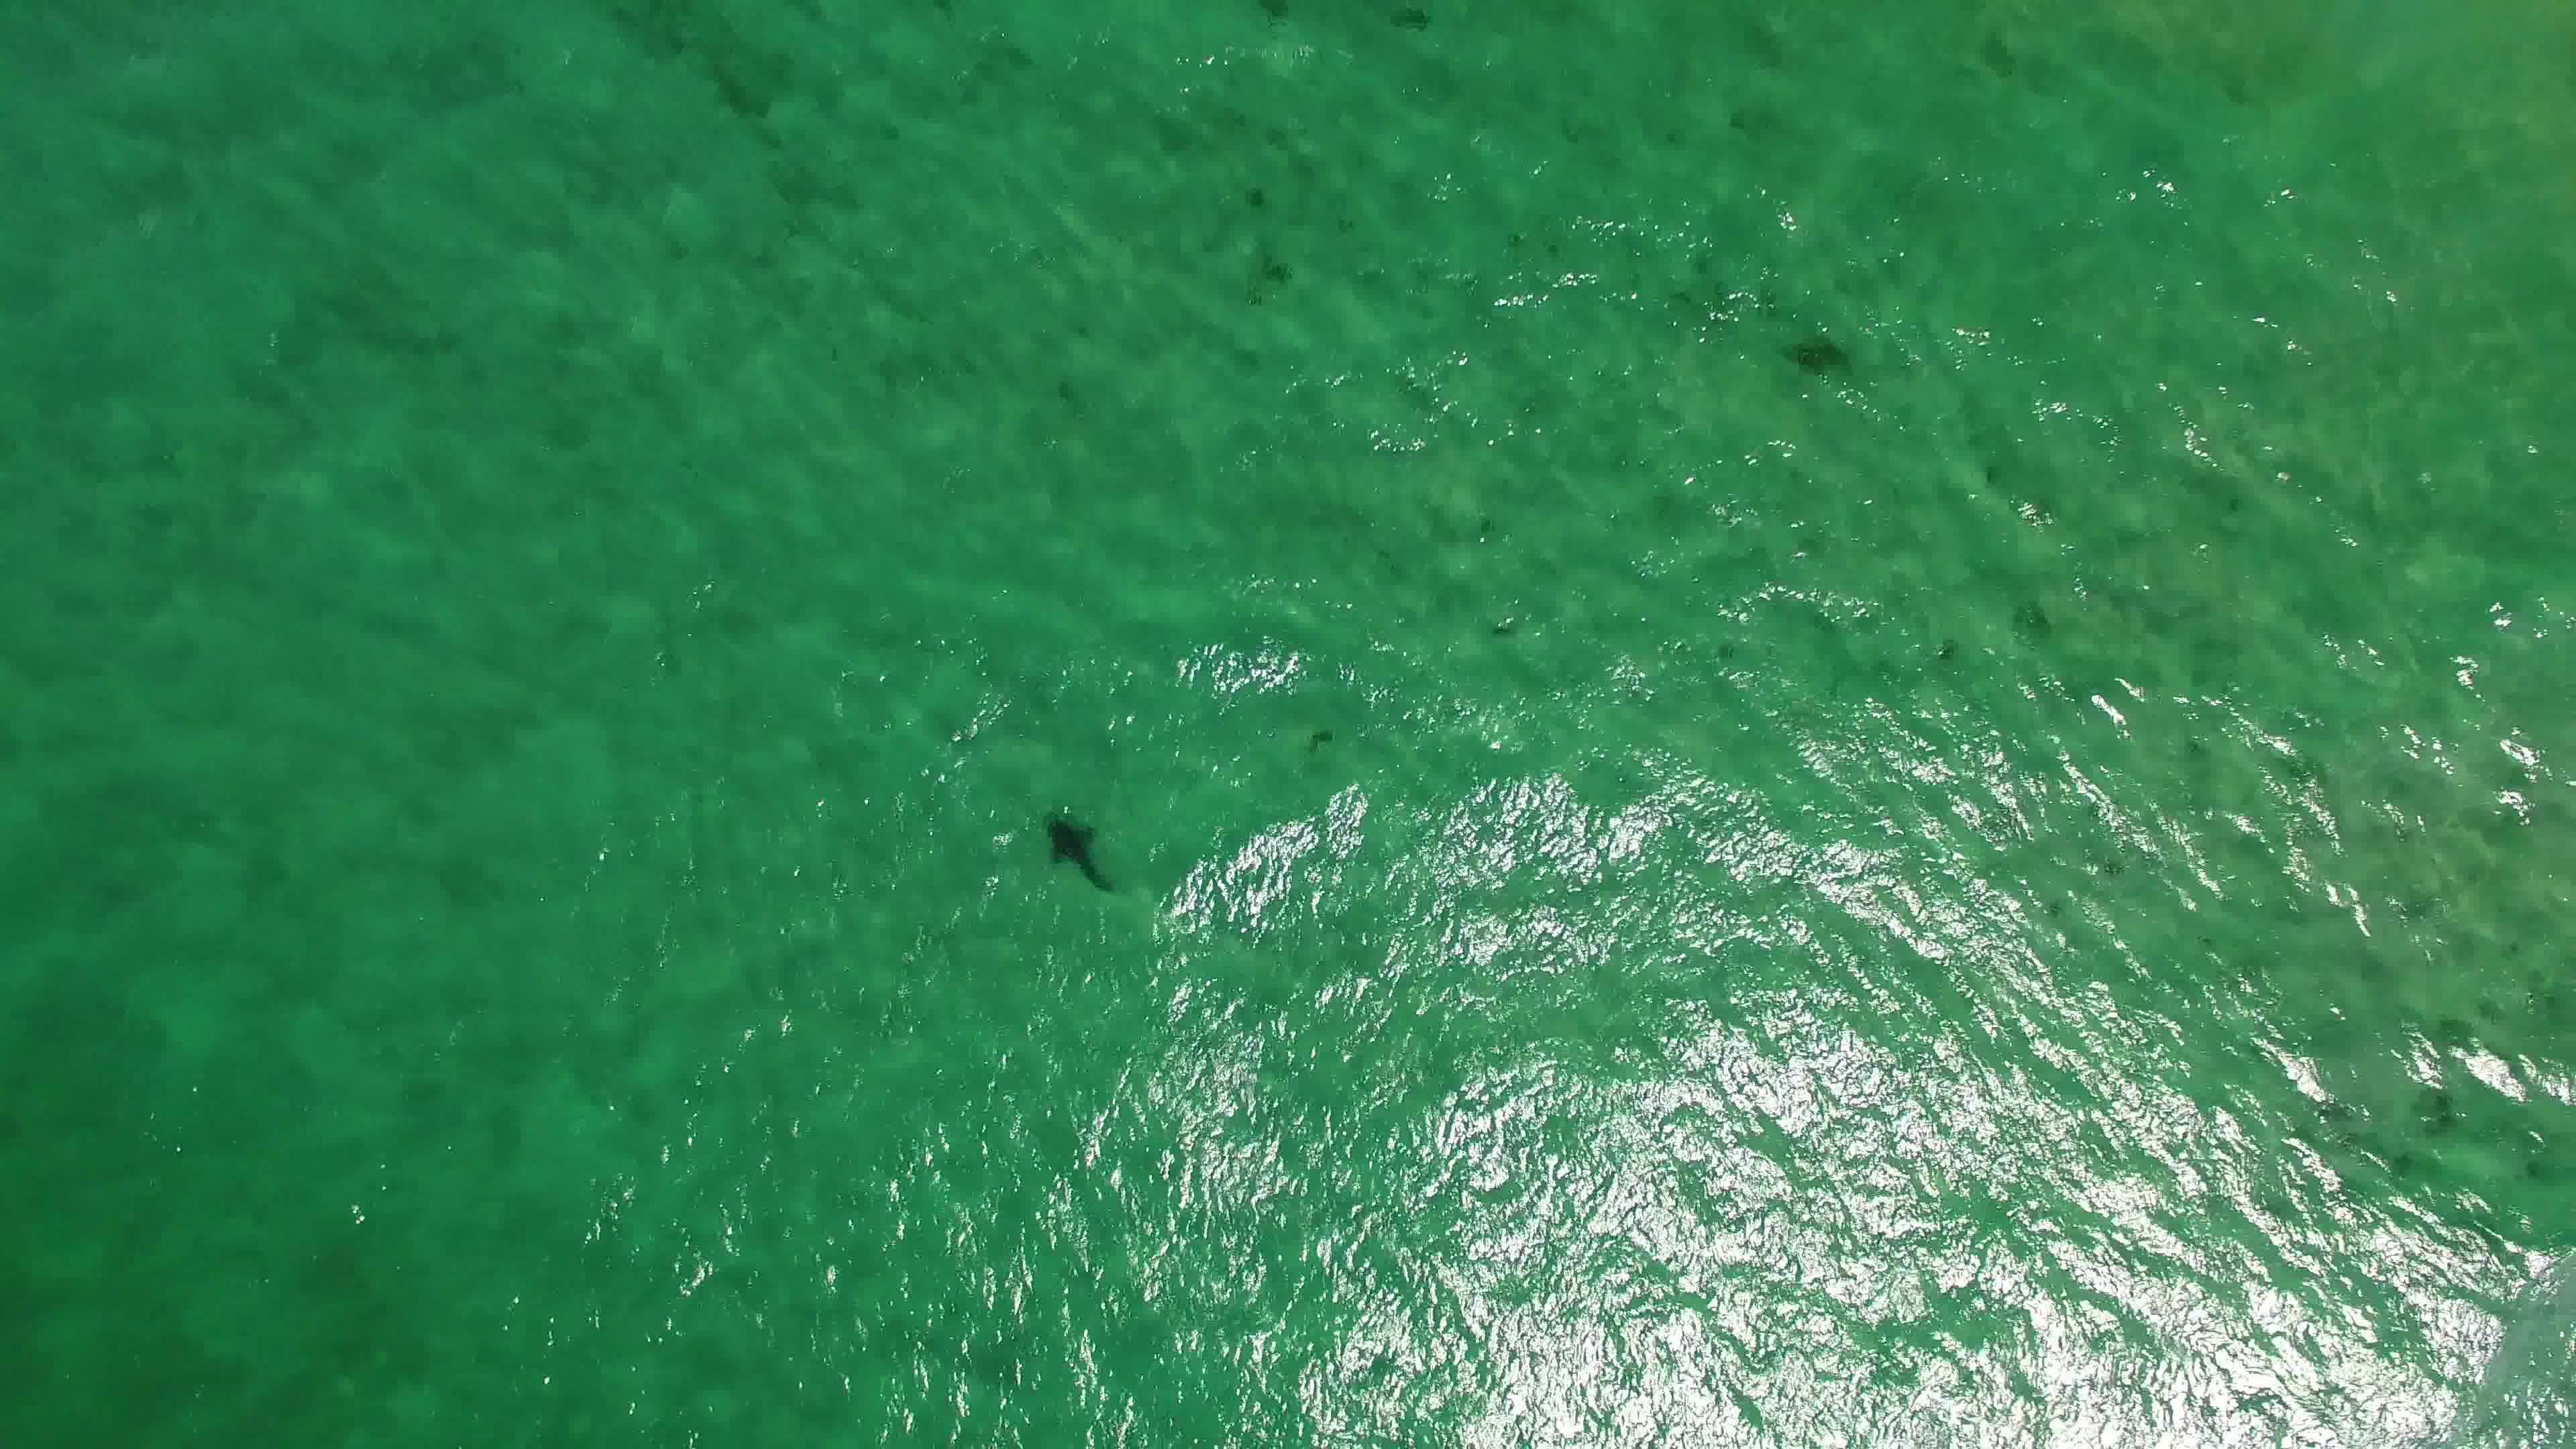shark: (1039, 814, 1118, 897)
